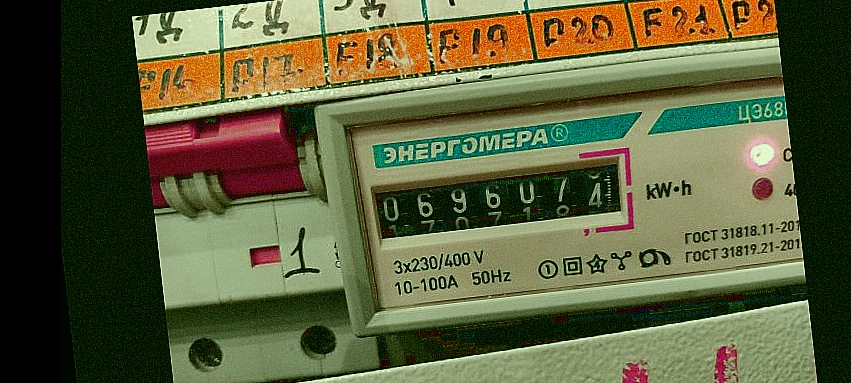0: (381, 192, 403, 223), (516, 175, 538, 204)
4: (585, 180, 606, 209)
6: (483, 179, 504, 209), (415, 189, 436, 218)
7: (551, 171, 573, 203)
9: (449, 185, 470, 215)
screen: (357, 142, 644, 260)
